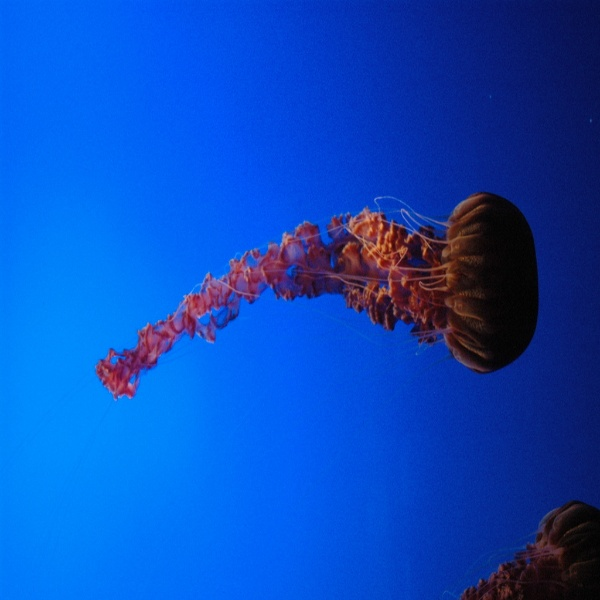Jellyfish: (0, 185, 540, 599), (460, 497, 599, 599)
